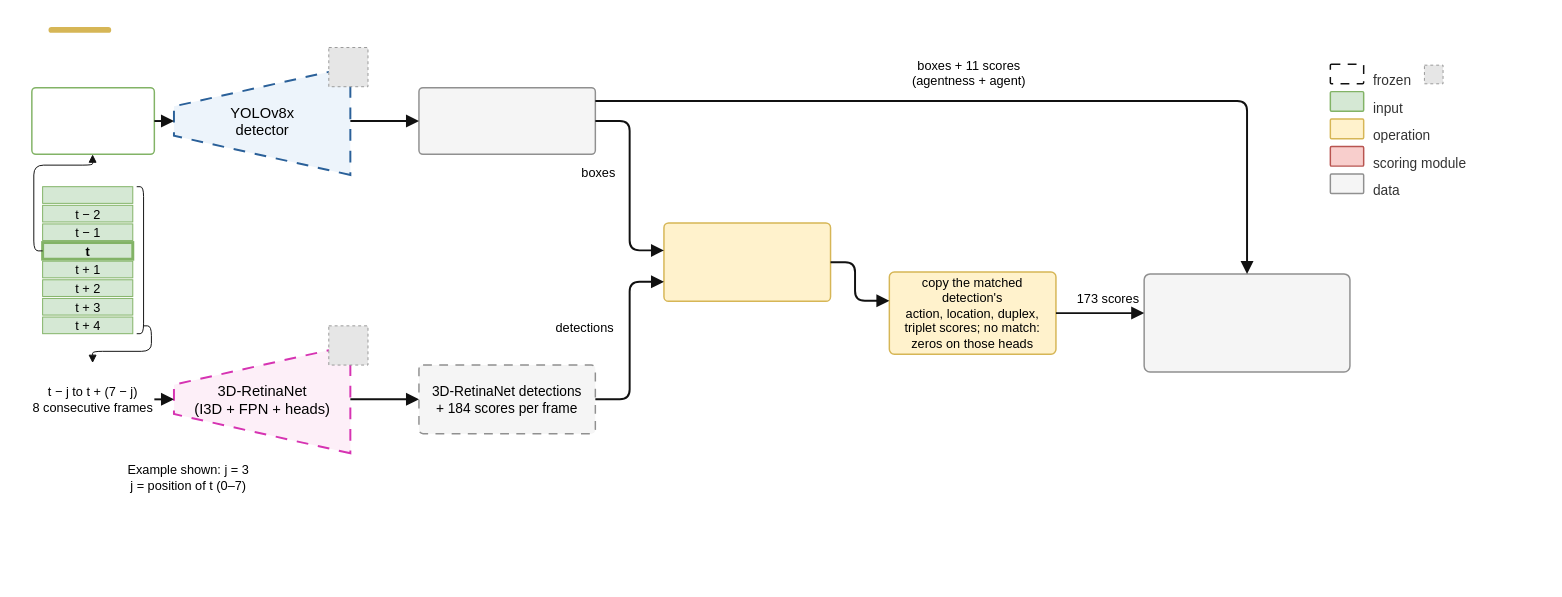
Image size: 1562x597. Some labels were removed from this diagram. Grey dashed boxes stand in for pictures. The centre of each missing label's shape, as x and y in pixels:
"boxes, conf, agent class; up to 300 per frame" goes at pixel 507 121.
"frame t" goes at pixel 93 121.
"match by overlap (IoU >= 0.5)" goes at pixel 747 262.
"per-frame detections: boxes + 184 scores 11 + 173 = 184" goes at pixel 1246 322.
"t − 3" goes at pixel 87 194.
